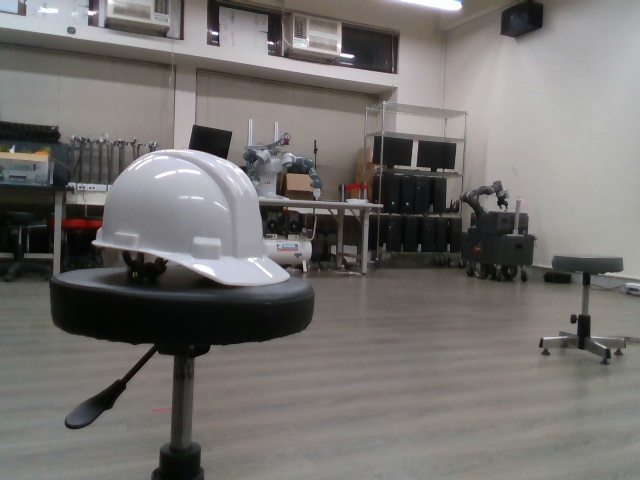helmet: (90, 145, 294, 291)
